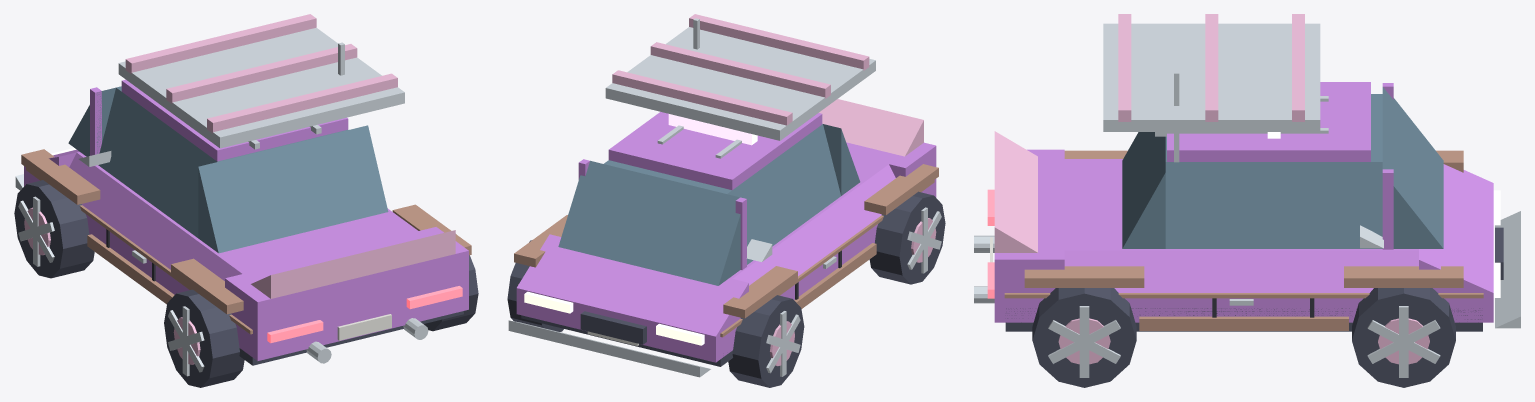
Rendered from district_dash.glb.
3 views of the same model, side by side, from view 1: azimuth 30°, elevation 25°; view 2: azimuth 150°, elevation 25°; view 3: azimuth 270°, elevation 25° (orthographic). The views are drawn at different scales.
Parts seen in each view (by area): view 1: RearWindow.157, RoofRack.015, Tail.057, CabinSideL.054, Body.257, ShoulderL.054, BodyUpper.054, Ducktail.042, Wheel_RL.217, Wheel_FL.217, Roof.257, RackBar-0.016 (+18 smaller); view 2: Windshield.157, RoofRack.015, Nose.054, Roof.257, CabinSideL.054, ShoulderL.054, Body.257, Wheel_FL.217, Wheel_RL.217, Ducktail.042, RackBar0.016, RackBar-0.016 (+21 smaller); view 3: RoofRack.015, CabinSideR.054, ShoulderR.054, Roof.257, Windshield.157, Body.257, Nose.054, BodyUpper.054, Wheel_FR.217, Wheel_RR.217, Tail.057, RearWindow.157 (+21 smaller).
Part boxes in pixels (x1,y1,x2,y2): RearWindow.157: [198, 125, 388, 253]; RoofRack.015: [118, 27, 404, 148]; Tail.057: [225, 227, 468, 333]; CabinSideL.054: [98, 88, 217, 237]; Body.257: [24, 166, 468, 360]; ShoulderL.054: [69, 153, 241, 280]; BodyUpper.054: [77, 152, 417, 273]; Ducktail.042: [251, 230, 455, 298]; Wheel_RL.217: [164, 289, 244, 387]; Wheel_FL.217: [14, 180, 94, 278]; Roof.257: [121, 79, 348, 161]; RackBar-0.016: [125, 14, 316, 74]; Windshield.157: [558, 160, 740, 285]; RoofRack.015: [605, 27, 875, 140]; Nose.054: [517, 234, 748, 336]; Roof.257: [608, 112, 822, 190]; CabinSideL.054: [727, 124, 840, 264]; ShoulderL.054: [732, 164, 895, 285]; Body.257: [516, 179, 936, 362]; Wheel_FL.217: [728, 295, 804, 387]; Wheel_RL.217: [869, 191, 945, 284]; Ducktail.042: [819, 99, 923, 156]; RackBar0.016: [650, 42, 830, 98]; RackBar-0.016: [612, 70, 792, 125]; RoofRack.015: [1103, 23, 1320, 131]; CabinSideR.054: [1165, 162, 1382, 248]; ShoulderR.054: [1064, 250, 1418, 292]; Roof.257: [1167, 82, 1370, 161]; Windshield.157: [1382, 87, 1443, 248]; Body.257: [994, 293, 1493, 322]; Nose.054: [1419, 164, 1493, 292]; BodyUpper.054: [1064, 159, 1418, 250]; Wheel_FR.217: [1352, 288, 1455, 387]; Wheel_RR.217: [1032, 288, 1136, 387]; Tail.057: [994, 149, 1064, 292]; RearWindow.157: [1122, 132, 1165, 248].
Bounding box in the file's own units: 3.1 × 2.84 × 5.04.
